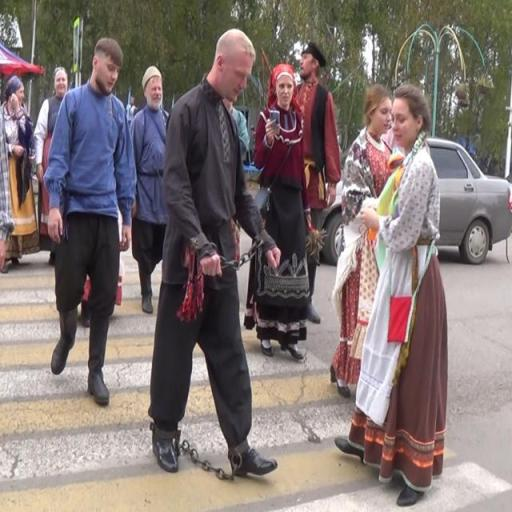person: (150, 23, 281, 482), (52, 38, 138, 407), (392, 84, 451, 508), (332, 84, 395, 399), (247, 67, 311, 370), (294, 38, 338, 327), (130, 66, 171, 314), (3, 71, 40, 273), (35, 68, 70, 269)
